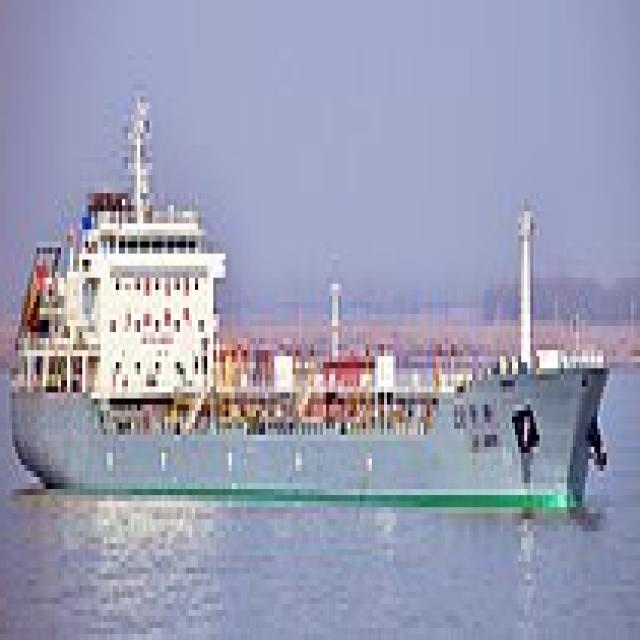Tanker: (6, 85, 619, 507)
